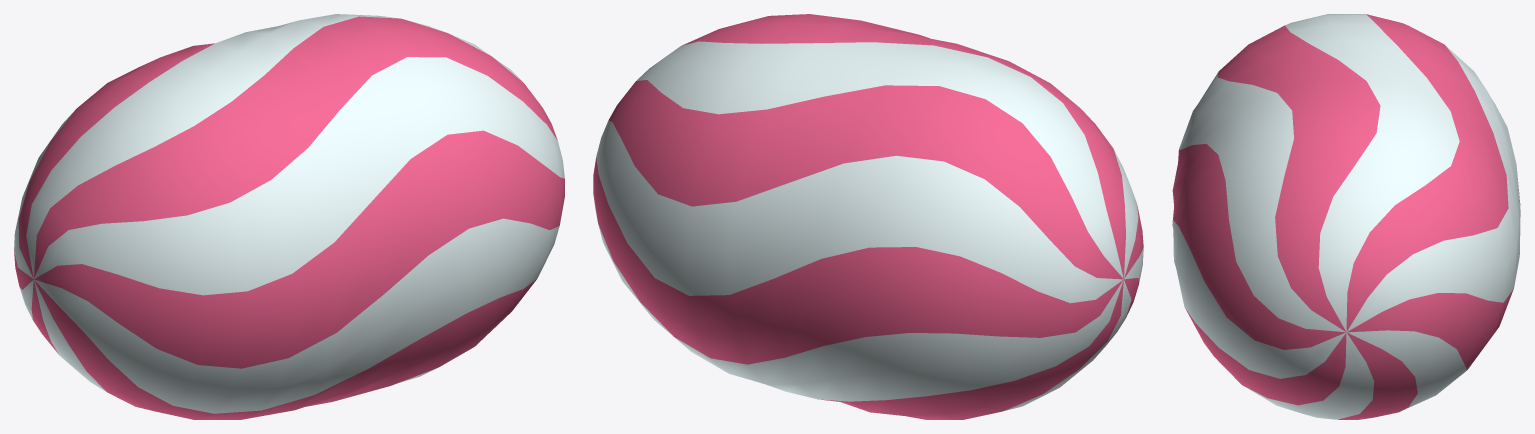
Rendered from Candy_B_03.fbx.
3 renders of one model, left to right at view 1: azimuth 30°, elevation 25°; view 2: azimuth 150°, elevation 25°; view 3: azimuth 270°, elevation 25°, orthographic. The views are drawn at different scales.
Visible parts, largest first — view 1: Candy_B_03_LOD0; view 2: Candy_B_03_LOD0; view 3: Candy_B_03_LOD0.
Boxes of the visible parts, <box> form: Candy_B_03_LOD0: <box>14,14,564,419</box>; Candy_B_03_LOD0: <box>593,14,1143,419</box>; Candy_B_03_LOD0: <box>1172,14,1520,419</box>.
Size of what is drawn, in the model's own units: 441 by 284 by 284.
